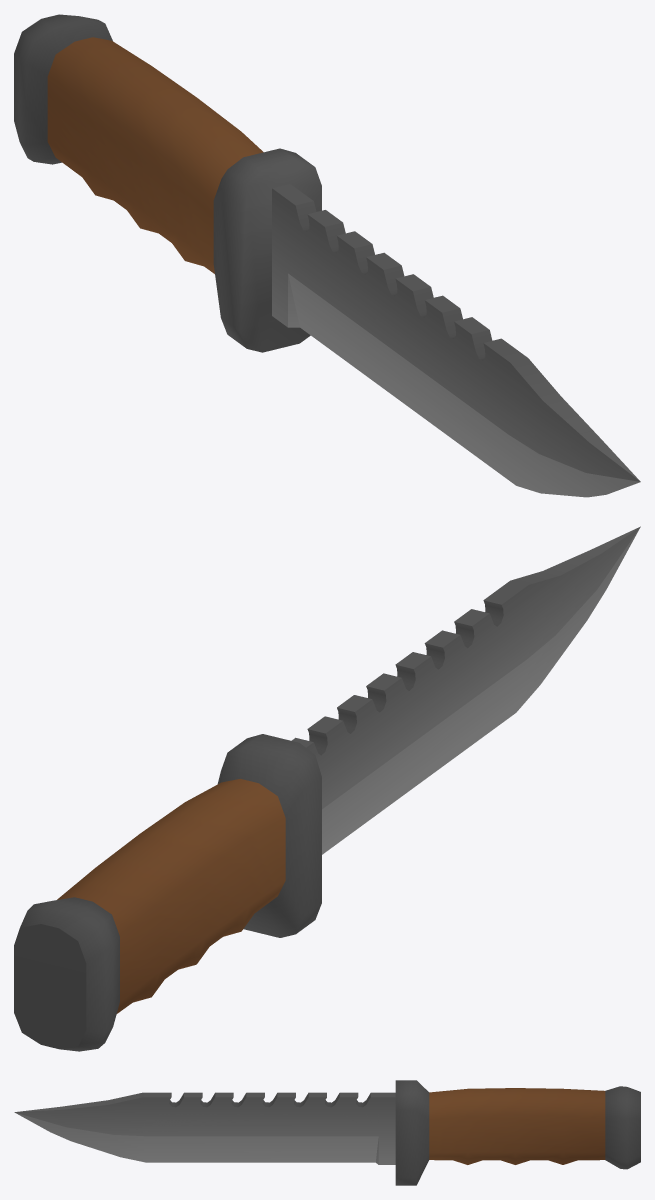
File: knife.glb
3 renders of one model, top to bottom at view 1: azimuth 30°, elevation 25°; view 2: azimuth 150°, elevation 25°; view 3: azimuth 270°, elevation 25°, orthographic. The views are drawn at different scales.
Parts seen in each view (by area): view 1: knife; view 2: knife; view 3: knife.
Part boxes in pixels (bbox=[...]): knife: bbox=[14, 14, 640, 497]; knife: bbox=[14, 526, 640, 1051]; knife: bbox=[14, 1080, 640, 1185].
Size of the model in its own units: 0.0385 by 0.0763 by 0.4518.
Materials: 1 (1 with a texture image).
